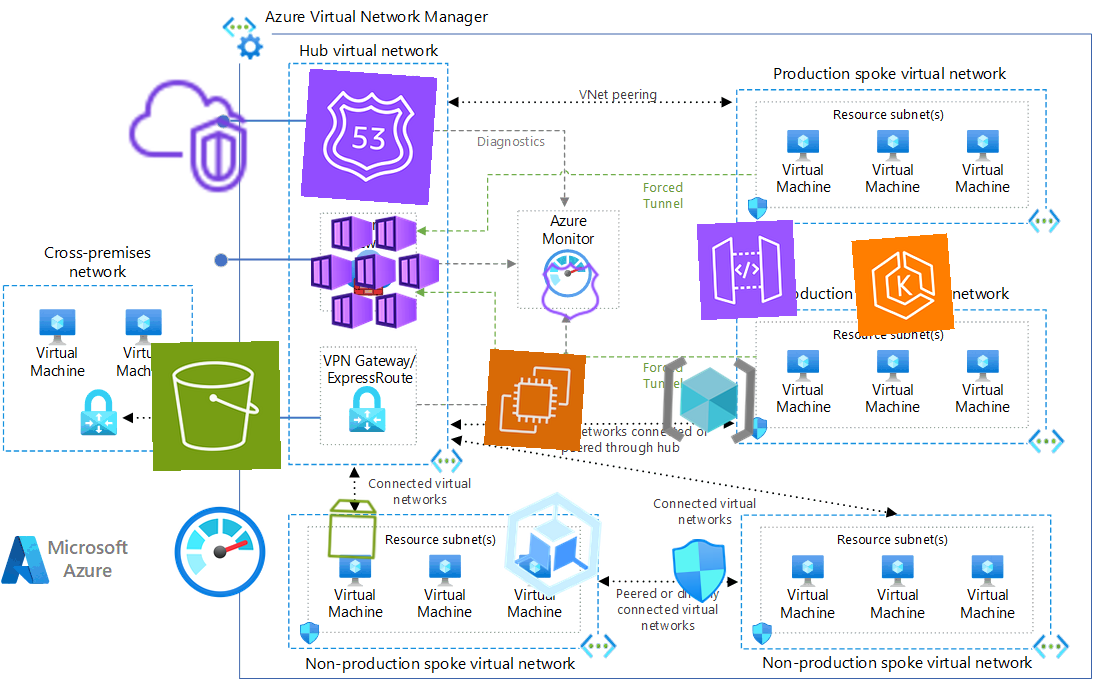aws_amazon_api_gateway: (696, 219, 798, 321)
aws_amazon_ec2: (483, 348, 587, 452)
aws_amazon_elastic_kubernetes_service: (851, 233, 955, 337)
aws_amazon_route_53: (300, 68, 438, 206)
aws_amazon_simple_storage_service: (151, 341, 281, 471)
aws_elastic_block_store_volume: (319, 495, 387, 563)
aws_route_53_hosted_zone: (538, 258, 604, 324)
aws_vpc_virtual_private_cloud_vpc: (123, 71, 253, 201)
azure_kubernetes_services: (310, 206, 440, 336)
azure_monitor: (171, 503, 269, 601)
azure_network_security_groups: (665, 536, 735, 606)
azure_resource_groups: (659, 350, 759, 450)
gcp_google_kubernetes_engine: (484, 476, 622, 614)
